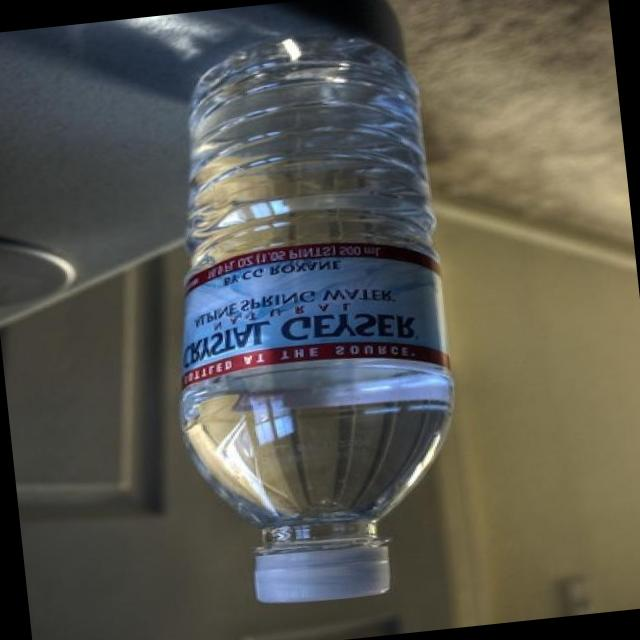plastic_bottle: (142, 24, 474, 614)
